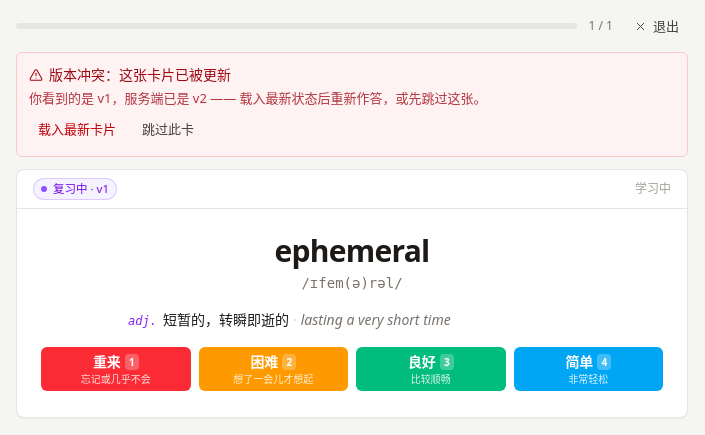
Test: ReviewView › 版本冲突(409 version_conflict)：展示冲突面板，跳过此卡可继续
The image size is (705, 435).
Step 1. Click the button "跳过此卡" → (168, 130), box x1=133 y1=116 x2=203 y2=144
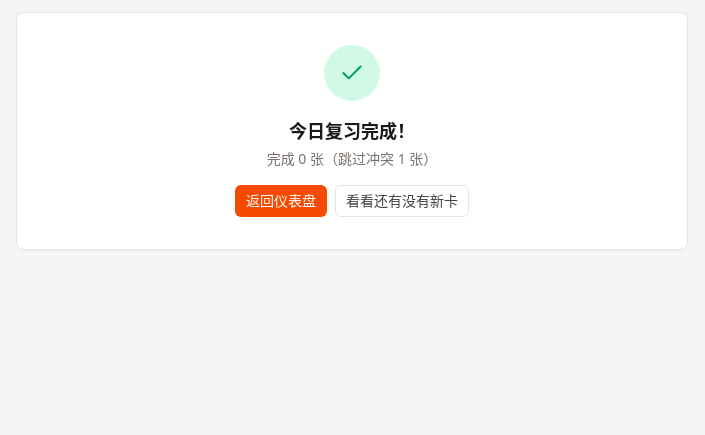
expect the text "今日复习完成" is shown: met, box x1=289 y1=119 x2=415 y2=143
